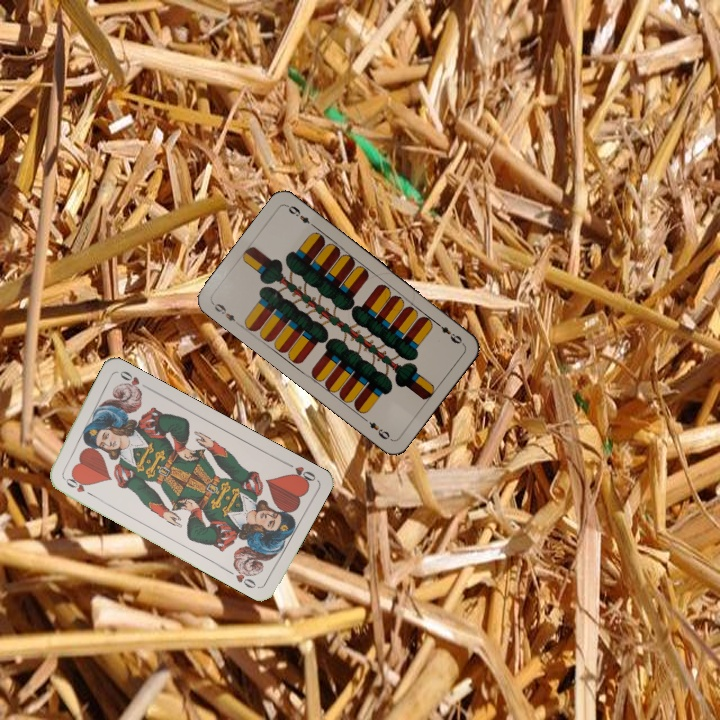E9: (208, 298, 243, 328), (432, 318, 466, 347)
HO: (281, 458, 318, 487), (59, 472, 96, 499)
